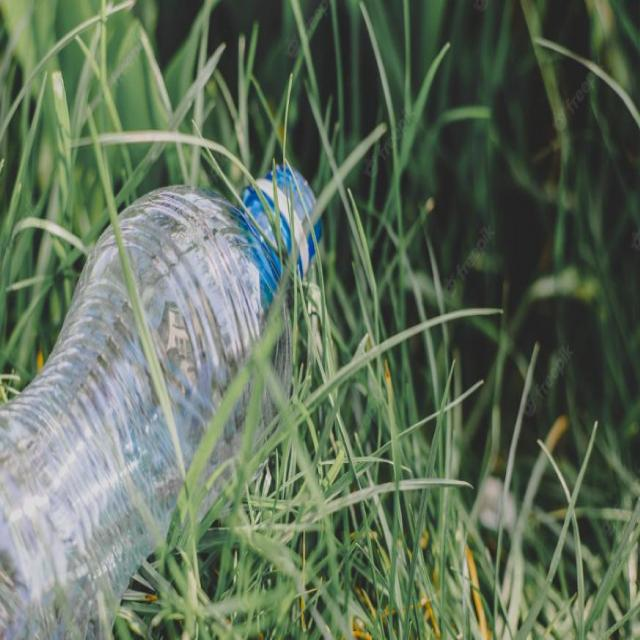bottle: (0, 138, 321, 640)
